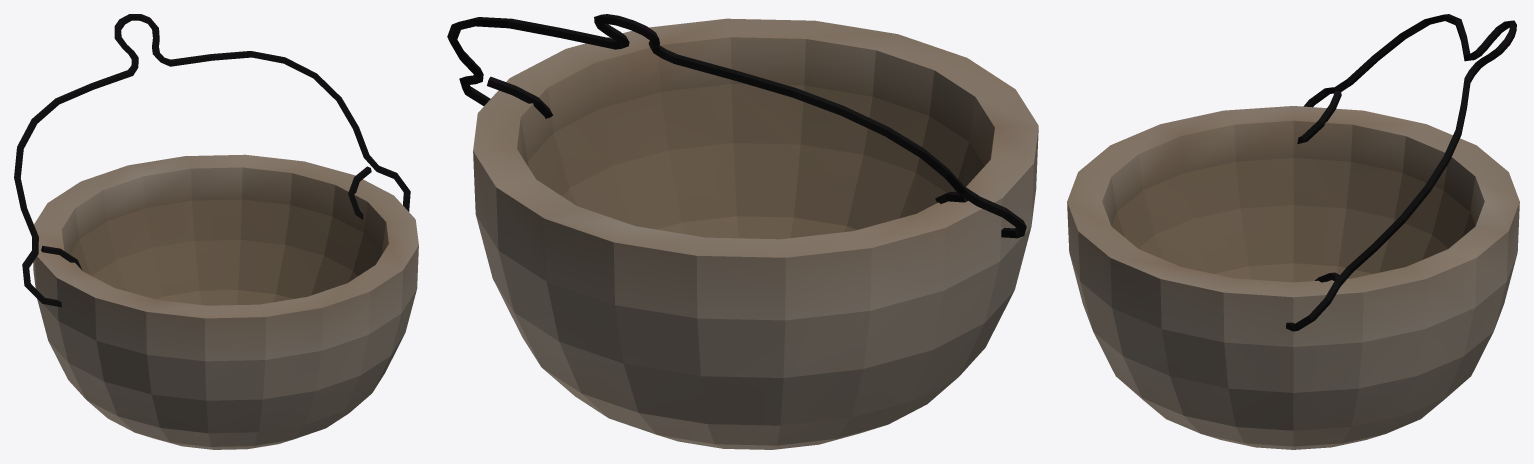
File: lamp_63038923.glb
3 renders of one model, left to right at view 1: azimuth 30°, elevation 25°; view 2: azimuth 150°, elevation 25°; view 3: azimuth 270°, elevation 25°, orthographic. The views are drawn at different scales.
Visible parts, largest first — view 1: SM_Lamp_M_Lamp_0; view 2: SM_Lamp_M_Lamp_0; view 3: SM_Lamp_M_Lamp_0.
Part boxes in pixels (x1,y1,x2,y2): SM_Lamp_M_Lamp_0: (14, 14, 418, 449); SM_Lamp_M_Lamp_0: (447, 14, 1038, 449); SM_Lamp_M_Lamp_0: (1067, 14, 1519, 449).
Size of the model in its own units: 0.1367 by 0.1111 by 0.1193.
